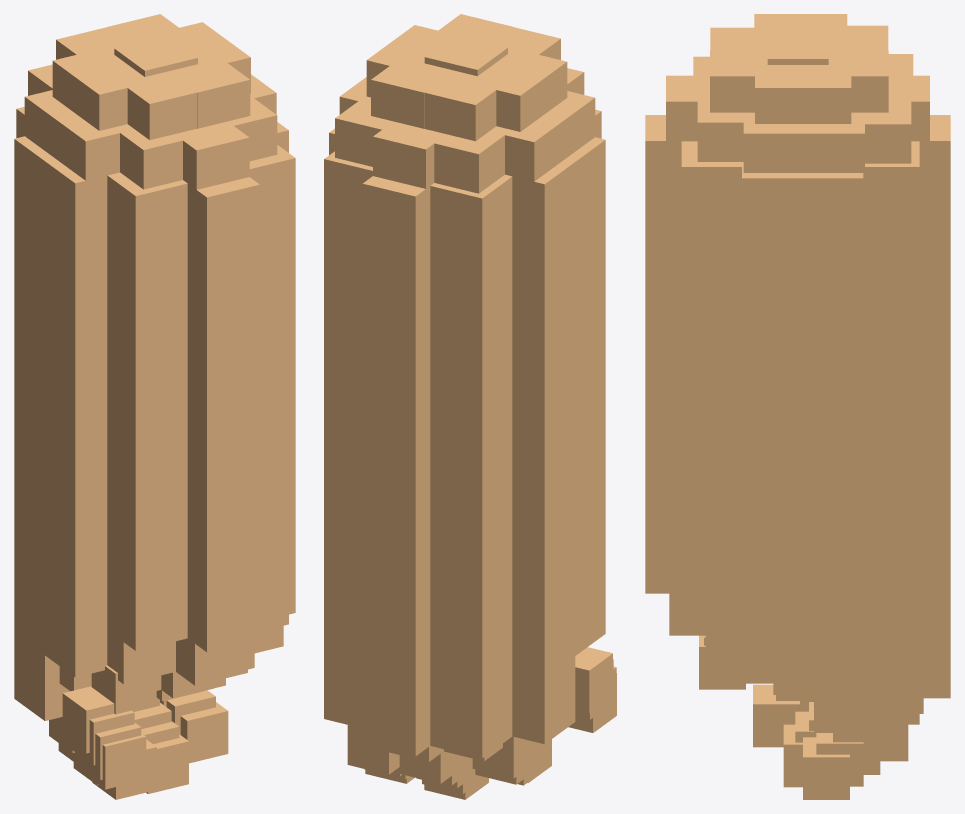
Rendered from brazo_Der.obj.
3 views of the same model, side by side, from view 1: azimuth 30°, elevation 25°; view 2: azimuth 150°, elevation 25°; view 3: azimuth 270°, elevation 25° (orthographic).
Visible parts, largest first — view 1: Box2247; view 2: Box2247; view 3: Box2247.
Boxes of the visible parts, box(x1,y1,x2,y2) form: Box2247: box(14, 14, 295, 799); Box2247: box(324, 14, 616, 799); Box2247: box(645, 14, 950, 799).
Bounding box in the file's own units: 0.7969 × 2.6 × 0.985.
